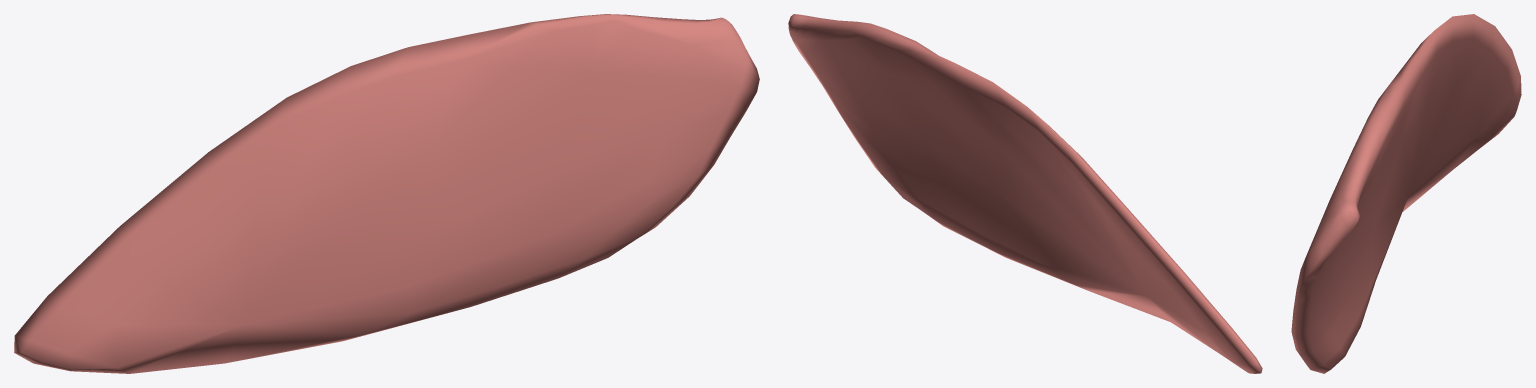
3 renders of one model, left to right at view 1: azimuth 30°, elevation 25°; view 2: azimuth 150°, elevation 25°; view 3: azimuth 270°, elevation 25°, orthographic. The views are drawn at different scales.
Visible parts, largest first — view 1: ZA_7fb5e889dc947620; view 2: ZA_7fb5e889dc947620; view 3: ZA_7fb5e889dc947620.
Boxes of the visible parts, left/top/right/bottom form: ZA_7fb5e889dc947620: left=14, top=14, right=759, bottom=373; ZA_7fb5e889dc947620: left=788, top=14, right=1262, bottom=373; ZA_7fb5e889dc947620: left=1291, top=14, right=1521, bottom=373.
Bounding box in the file's own units: 0.0162 × 0.00635 × 0.00414.
